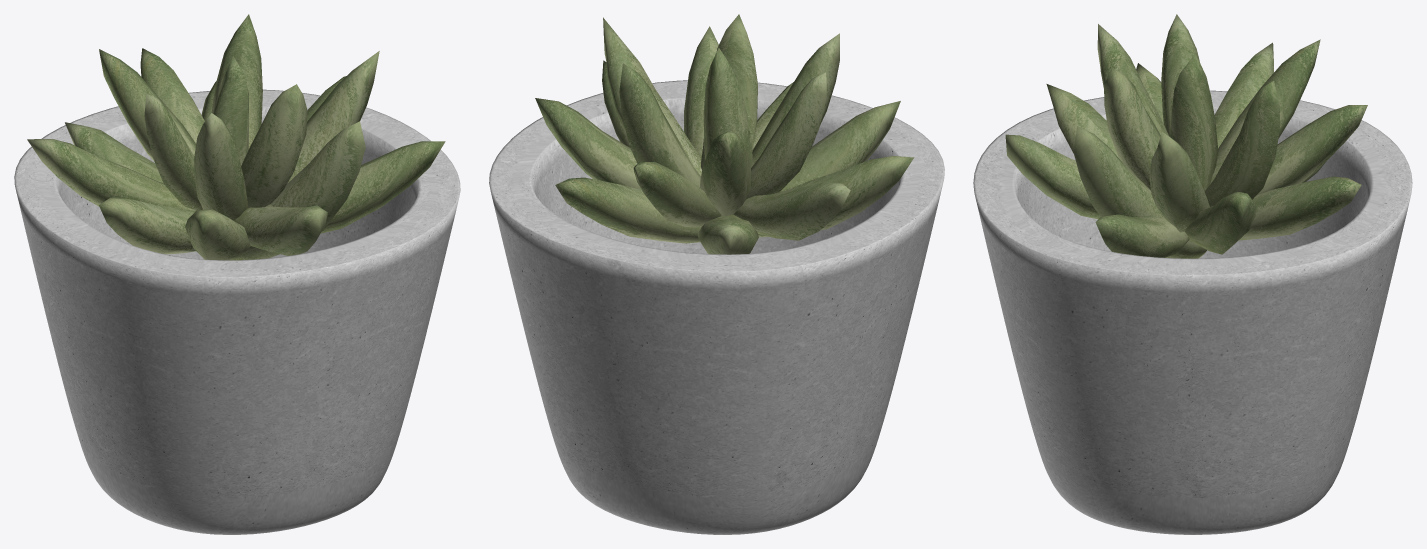
Rendered from ECHEVERIA_AMOENA_CEMENT_ROUND_POT.glb.
3 renders of one model, left to right at view 1: azimuth 30°, elevation 25°; view 2: azimuth 150°, elevation 25°; view 3: azimuth 270°, elevation 25°, orthographic. The views are drawn at different scales.
Visible parts, largest first — view 1: pot02_v1, GA_cactus; view 2: pot02_v1, GA_cactus; view 3: pot02_v1, GA_cactus.
Part boxes in pixels (x1,y1,x2,y2): pot02_v1: (14,89,460,534); GA_cactus: (27,14,445,260); pot02_v1: (489,80,944,534); GA_cactus: (535,14,914,254); pot02_v1: (973,90,1412,534); GA_cactus: (1005,14,1367,258).
Size of the model in its own units: 1.12 by 1.2 by 1.12.
Materials: 2 (2 with a texture image).
